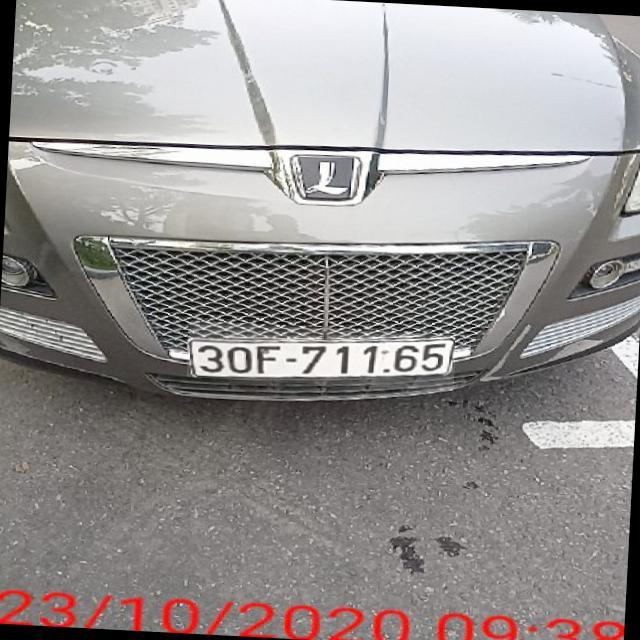car: (23, 4, 632, 427)
plate: (182, 332, 463, 386)
